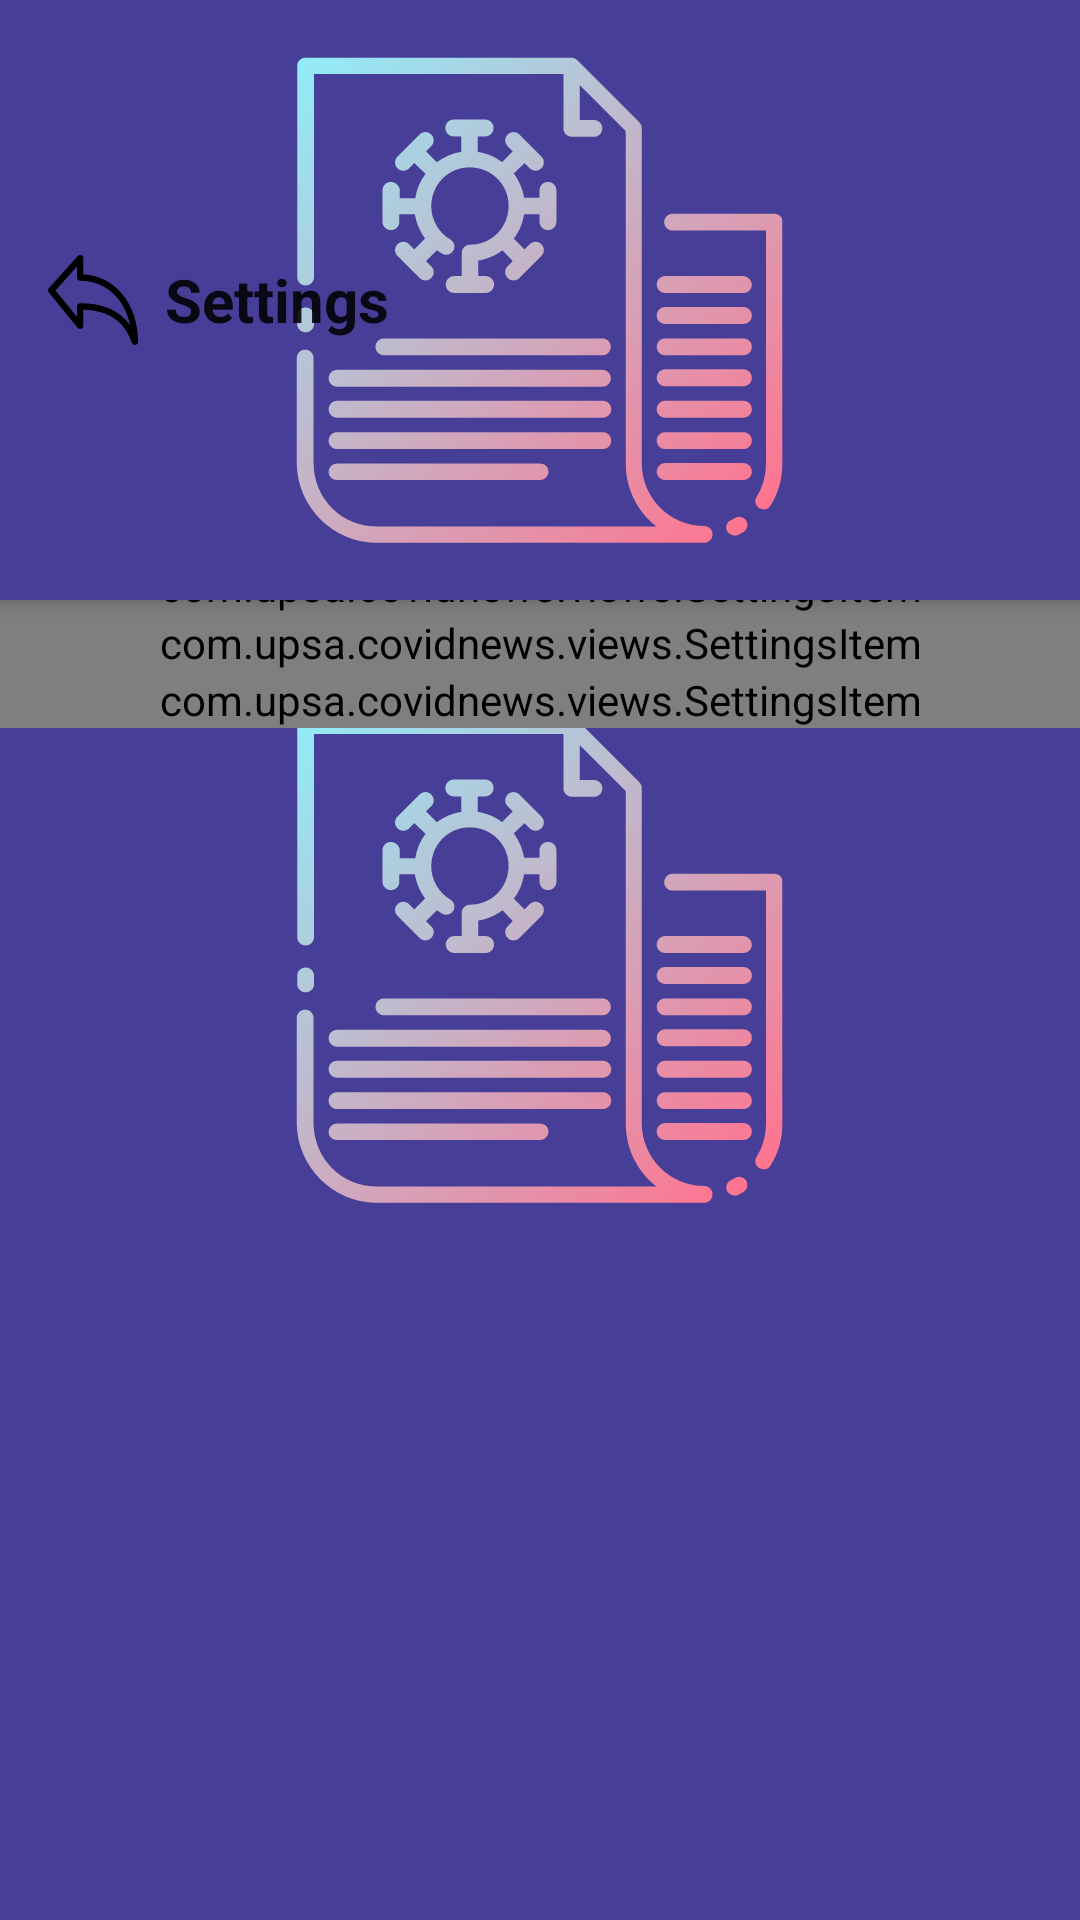

Icons on this 1080×1920 Android screen, each with its box as {"left": x1, "top": y1, "right": x2, "bottom": y2}:
back: {"left": 48, "top": 255, "right": 138, "bottom": 345}
